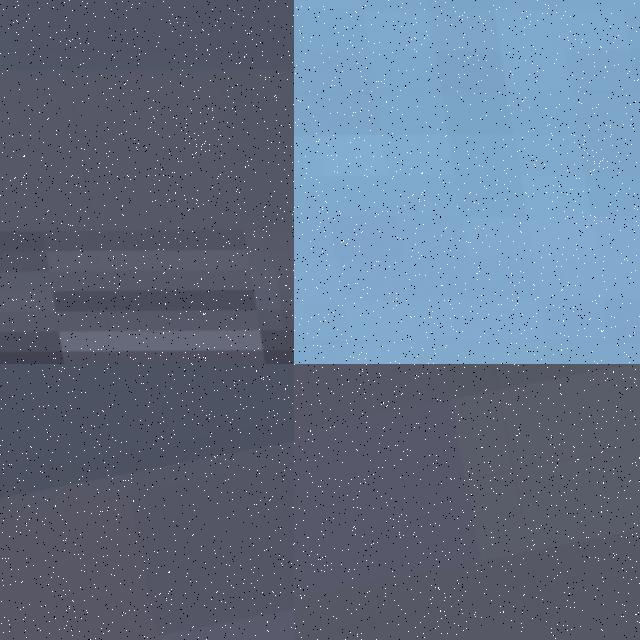0: (0, 0, 294, 364)
drone: (294, 0, 640, 364)
